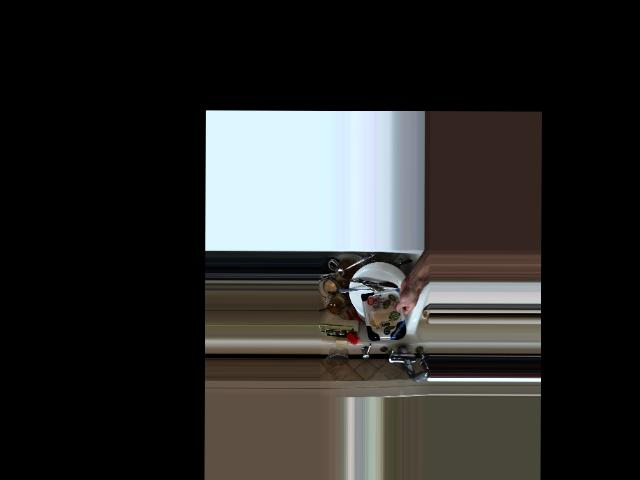cheese: (362, 280, 419, 344)
